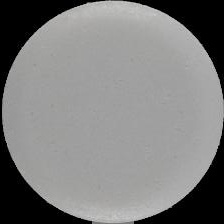61786-161: (0, 0, 224, 224)
